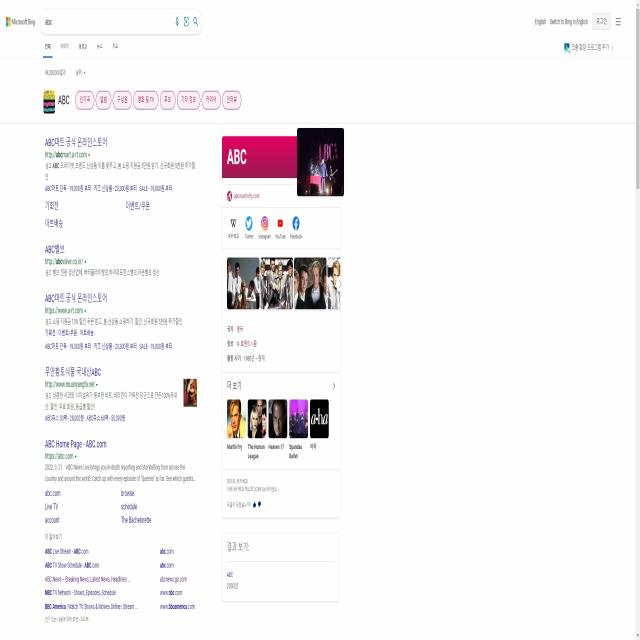menu-bar: (534, 12, 624, 34)
search: (39, 7, 203, 38)
side-panel: (221, 124, 345, 599)
tab-bar: (42, 39, 121, 56)
